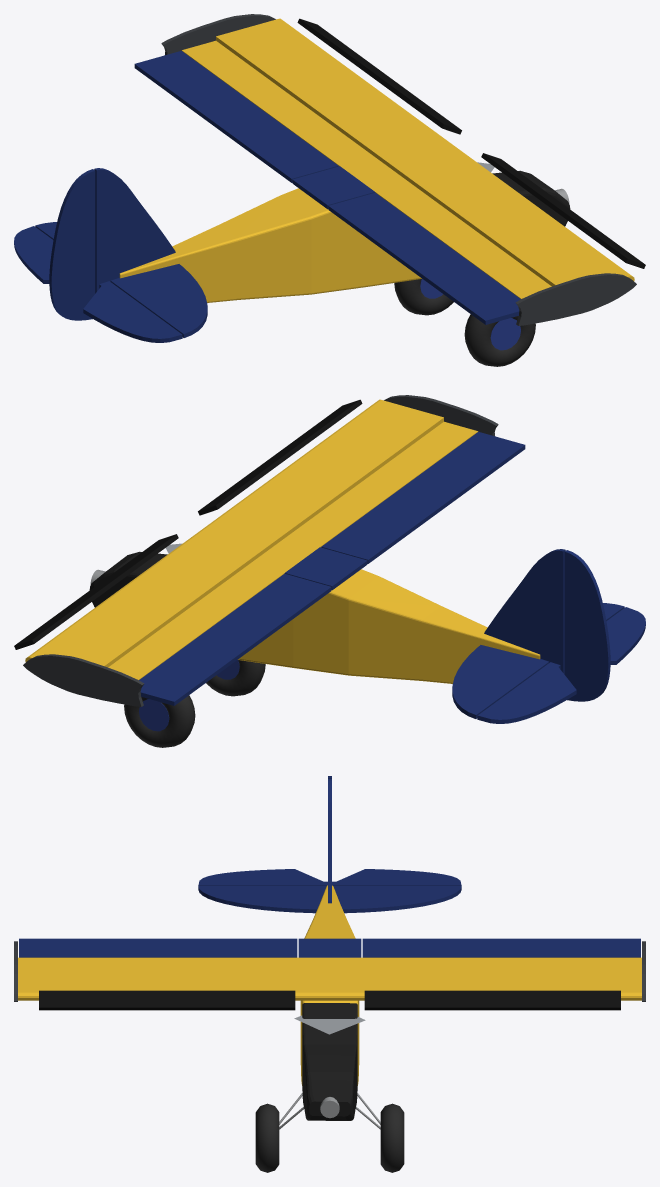
File: buschtrottel-shockcub.glb
The picture shows the model from 3 angles, top to bottom: view 1: azimuth 30°, elevation 25°; view 2: azimuth 150°, elevation 25°; view 3: azimuth 270°, elevation 25°; orthographic projection. The views are drawn at different scales.
Parts seen in each view (by area): view 1: group7, group14, body, tail, aileron_L, aileron_R, rudder, elevator, wheel_R, wheel_L; view 2: group14, group7, body, tail, aileron_R, aileron_L, rudder, elevator, wheel_L, wheel_R; view 3: group7, group14, body, tail, aileron_R, aileron_L, elevator, wheel_L, wheel_R.
Part boxes in pixels (x1,y1,x2,y2): group7: (310,147,645,325); group14: (161,14,461,195); body: (119,162,570,302); tail: (35,168,207,337); aileron_L: (134,50,338,182); aileron_R: (328,192,520,324); rudder: (49,169,95,320); elevator: (14,226,182,342); wheel_R: (464,314,535,366); wheel_L: (394,279,453,315); group14: (14,528,349,706); group7: (198,395,498,576); body: (89,543,540,683); tail: (452,549,624,718); aileron_R: (321,431,525,563); aileron_L: (139,573,331,705); rudder: (564,550,610,701); elevator: (477,607,645,723); wheel_L: (124,695,195,747); wheel_R: (206,660,265,696); group7: (14,938,329,1010); group14: (330,938,645,1010); body: (294,885,365,1120); tail: (198,779,461,913); aileron_R: (19,938,297,957); aileron_L: (362,938,640,957); elevator: (198,869,461,885); wheel_L: (380,1103,404,1172); wheel_R: (255,1103,279,1172).
Size of the model in its own units: 0.7584 by 0.3676 by 0.912.
